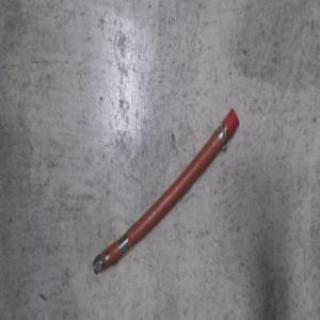Hosetrack_idkeyframe: (90, 107, 240, 277)
